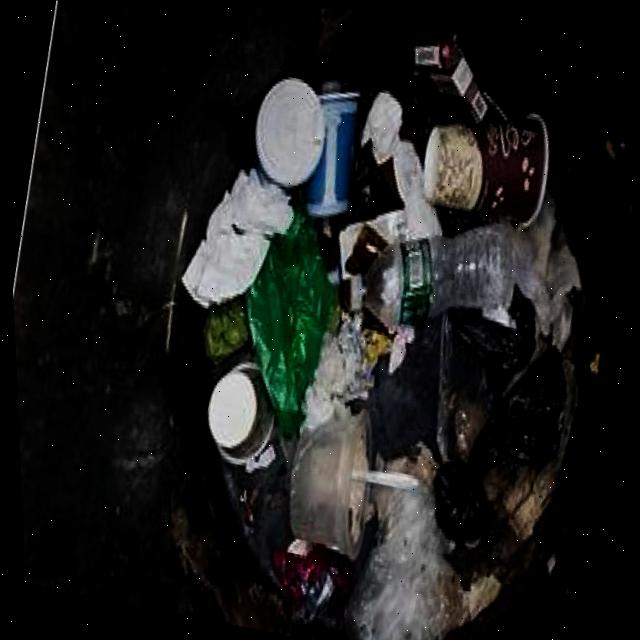Garbage: (180, 35, 579, 640)
Papar_Cup: (422, 113, 548, 224), (203, 362, 270, 465)
Plastic_Bag: (430, 348, 562, 539), (242, 196, 331, 434), (446, 285, 532, 372), (400, 71, 471, 158), (347, 141, 401, 222)
Plastic_Glass: (284, 410, 365, 560), (253, 76, 324, 187), (302, 92, 360, 218)
Plastic_Straw: (346, 467, 415, 491)
Plastic_bottle: (346, 222, 519, 331)
